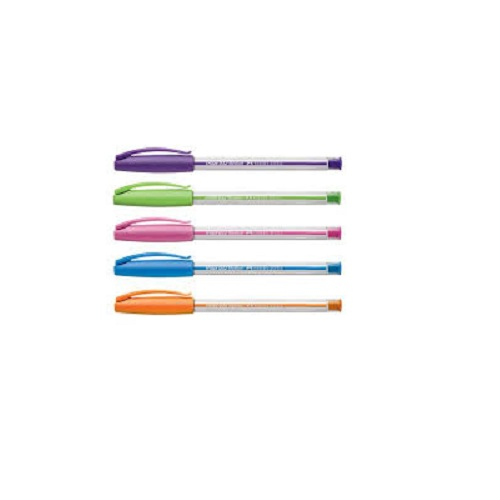Boligrafo: (108, 176, 346, 212), (116, 287, 346, 324), (110, 141, 345, 174), (111, 215, 348, 246), (112, 249, 346, 280)
